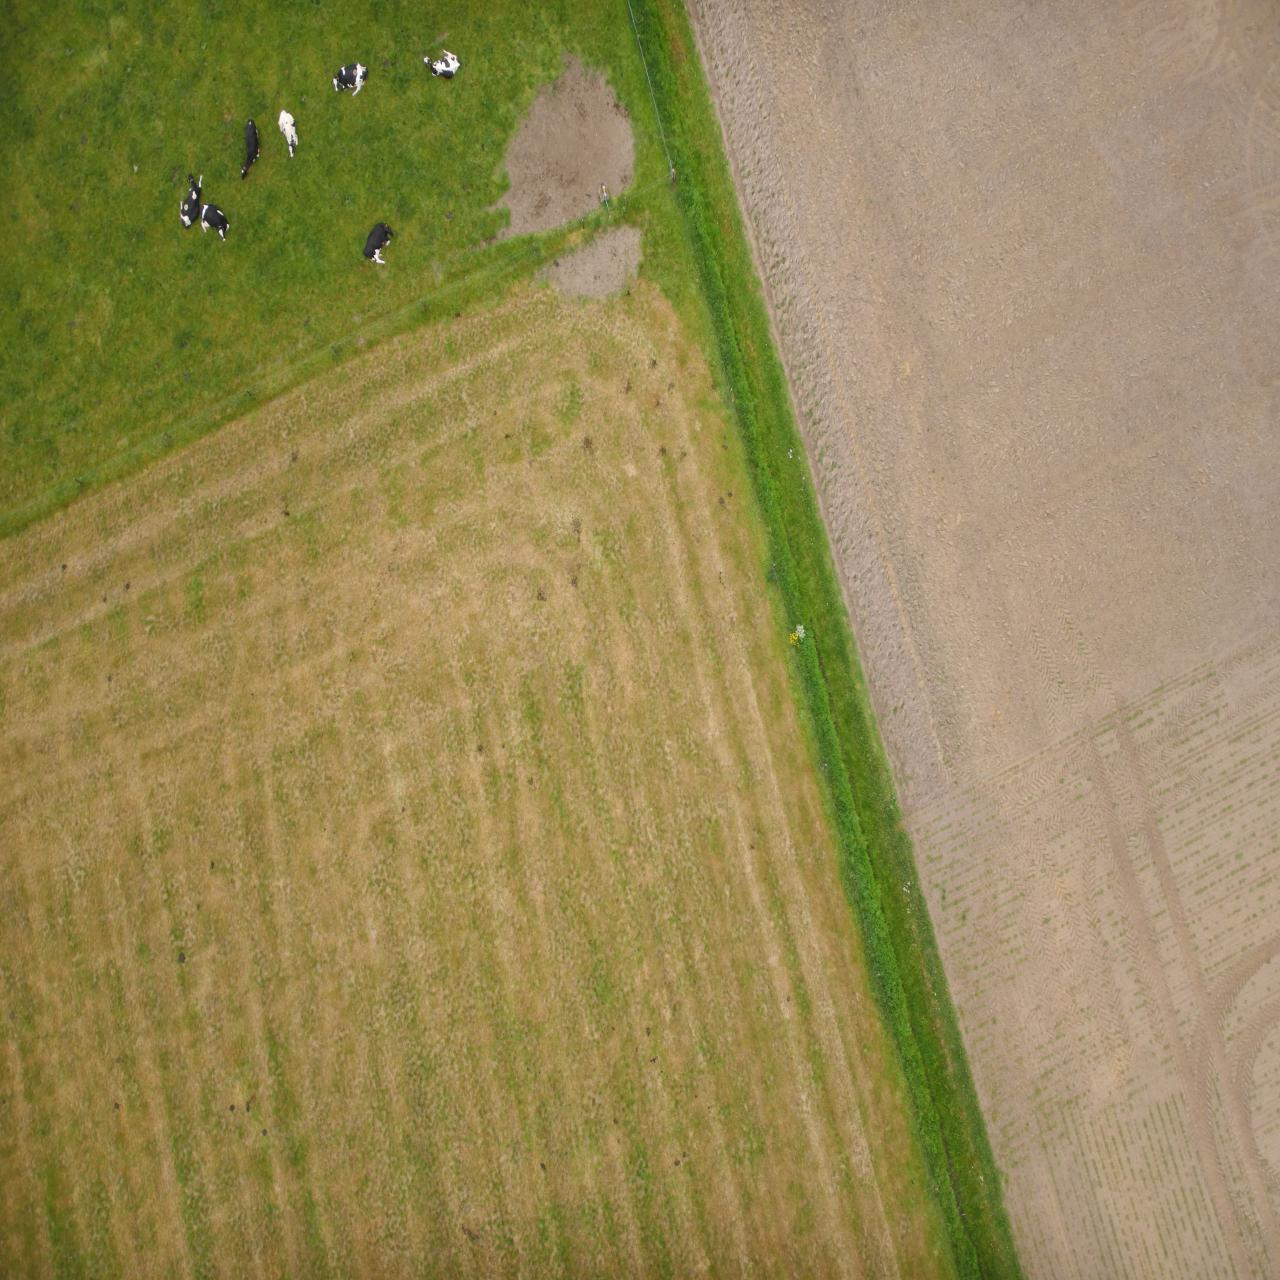cow: (1077, 1050, 1101, 1110), (887, 1016, 917, 1058), (912, 1183, 947, 1217), (1020, 1099, 1039, 1162), (1050, 1039, 1080, 1076), (821, 1201, 856, 1232), (981, 1123, 1002, 1171)
